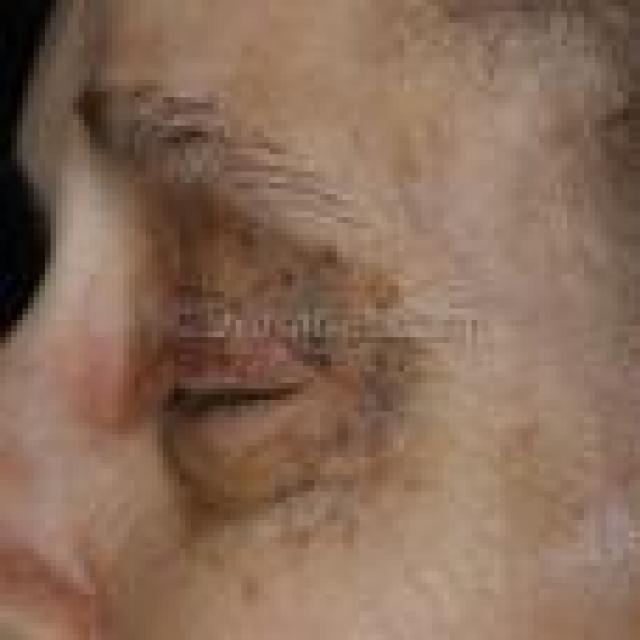Melasma: (193, 274, 425, 546)
